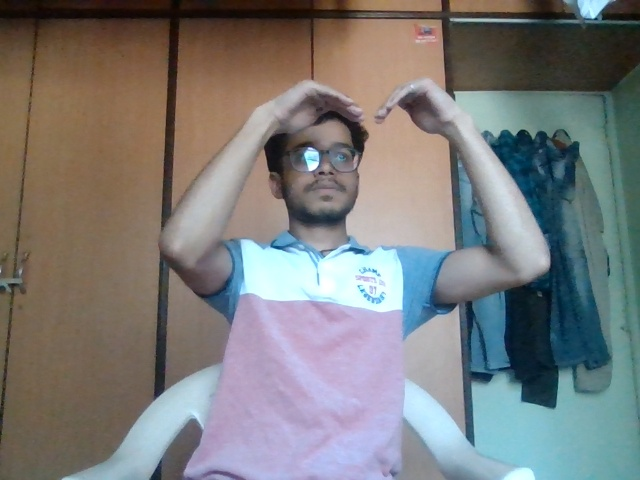we: (247, 70, 493, 181)
